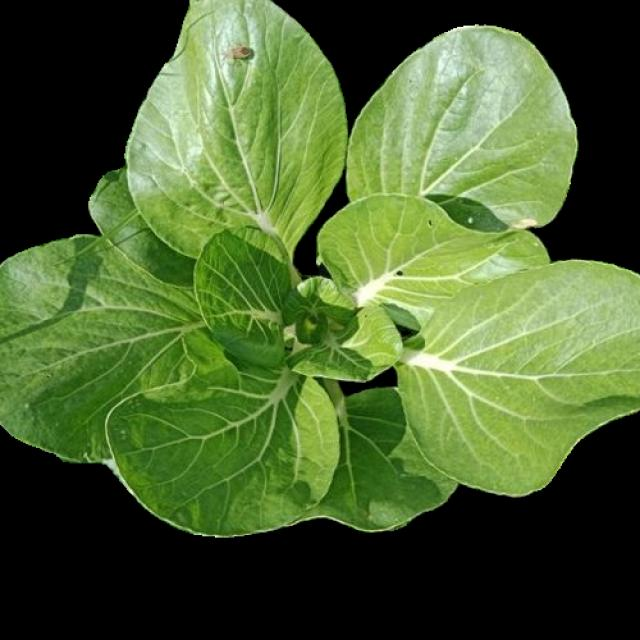mature: (1, 1, 639, 536)
unhealthy: (348, 30, 571, 226), (316, 190, 548, 322)
